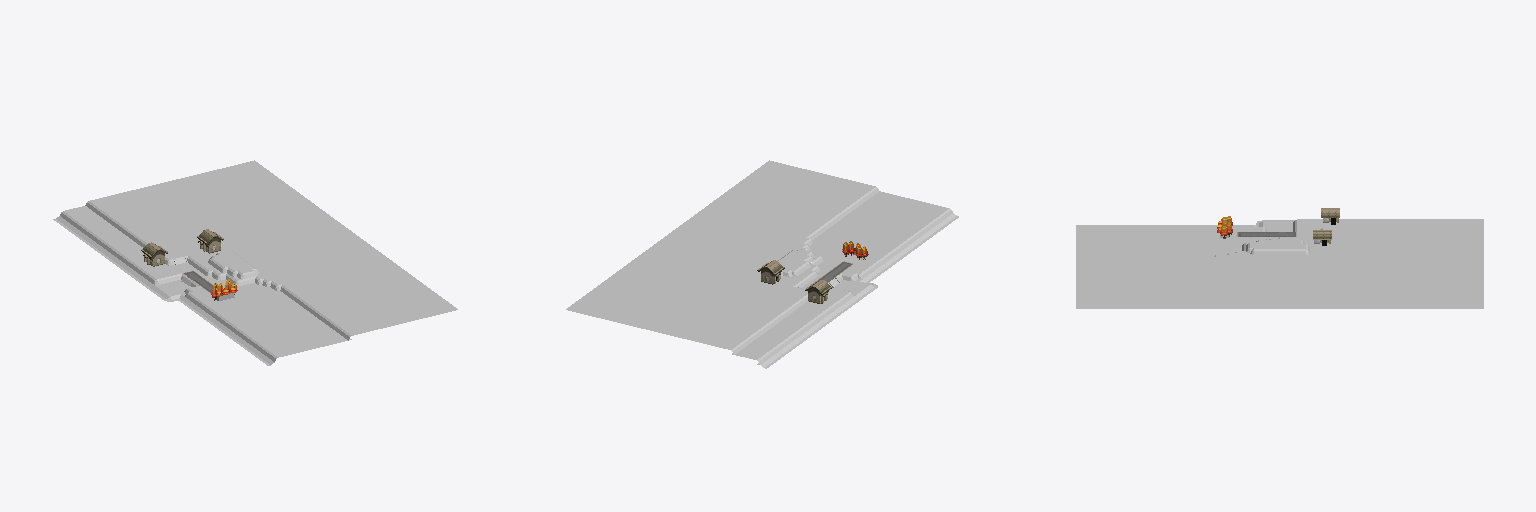
3 views of the same model, side by side, from view 1: azimuth 30°, elevation 25°; view 2: azimuth 150°, elevation 25°; view 3: azimuth 270°, elevation 25° (orthographic).
Parts seen in each view (by area): view 1: map.001; view 2: map.001; view 3: map.001.
Boxes of the visible parts, x1,y1,x2,y2 form: map.001: [53, 160, 457, 365]; map.001: [566, 160, 958, 368]; map.001: [1076, 208, 1483, 308].
Size of the model in its own units: 54.75 by 7.06 by 96.
21 materials, 10 textured.